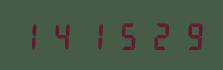five: (111, 20, 141, 50)
four: (48, 20, 78, 50)
nine: (173, 20, 203, 50)
one: (17, 20, 47, 50), (80, 20, 110, 50)
two: (142, 20, 172, 50)
